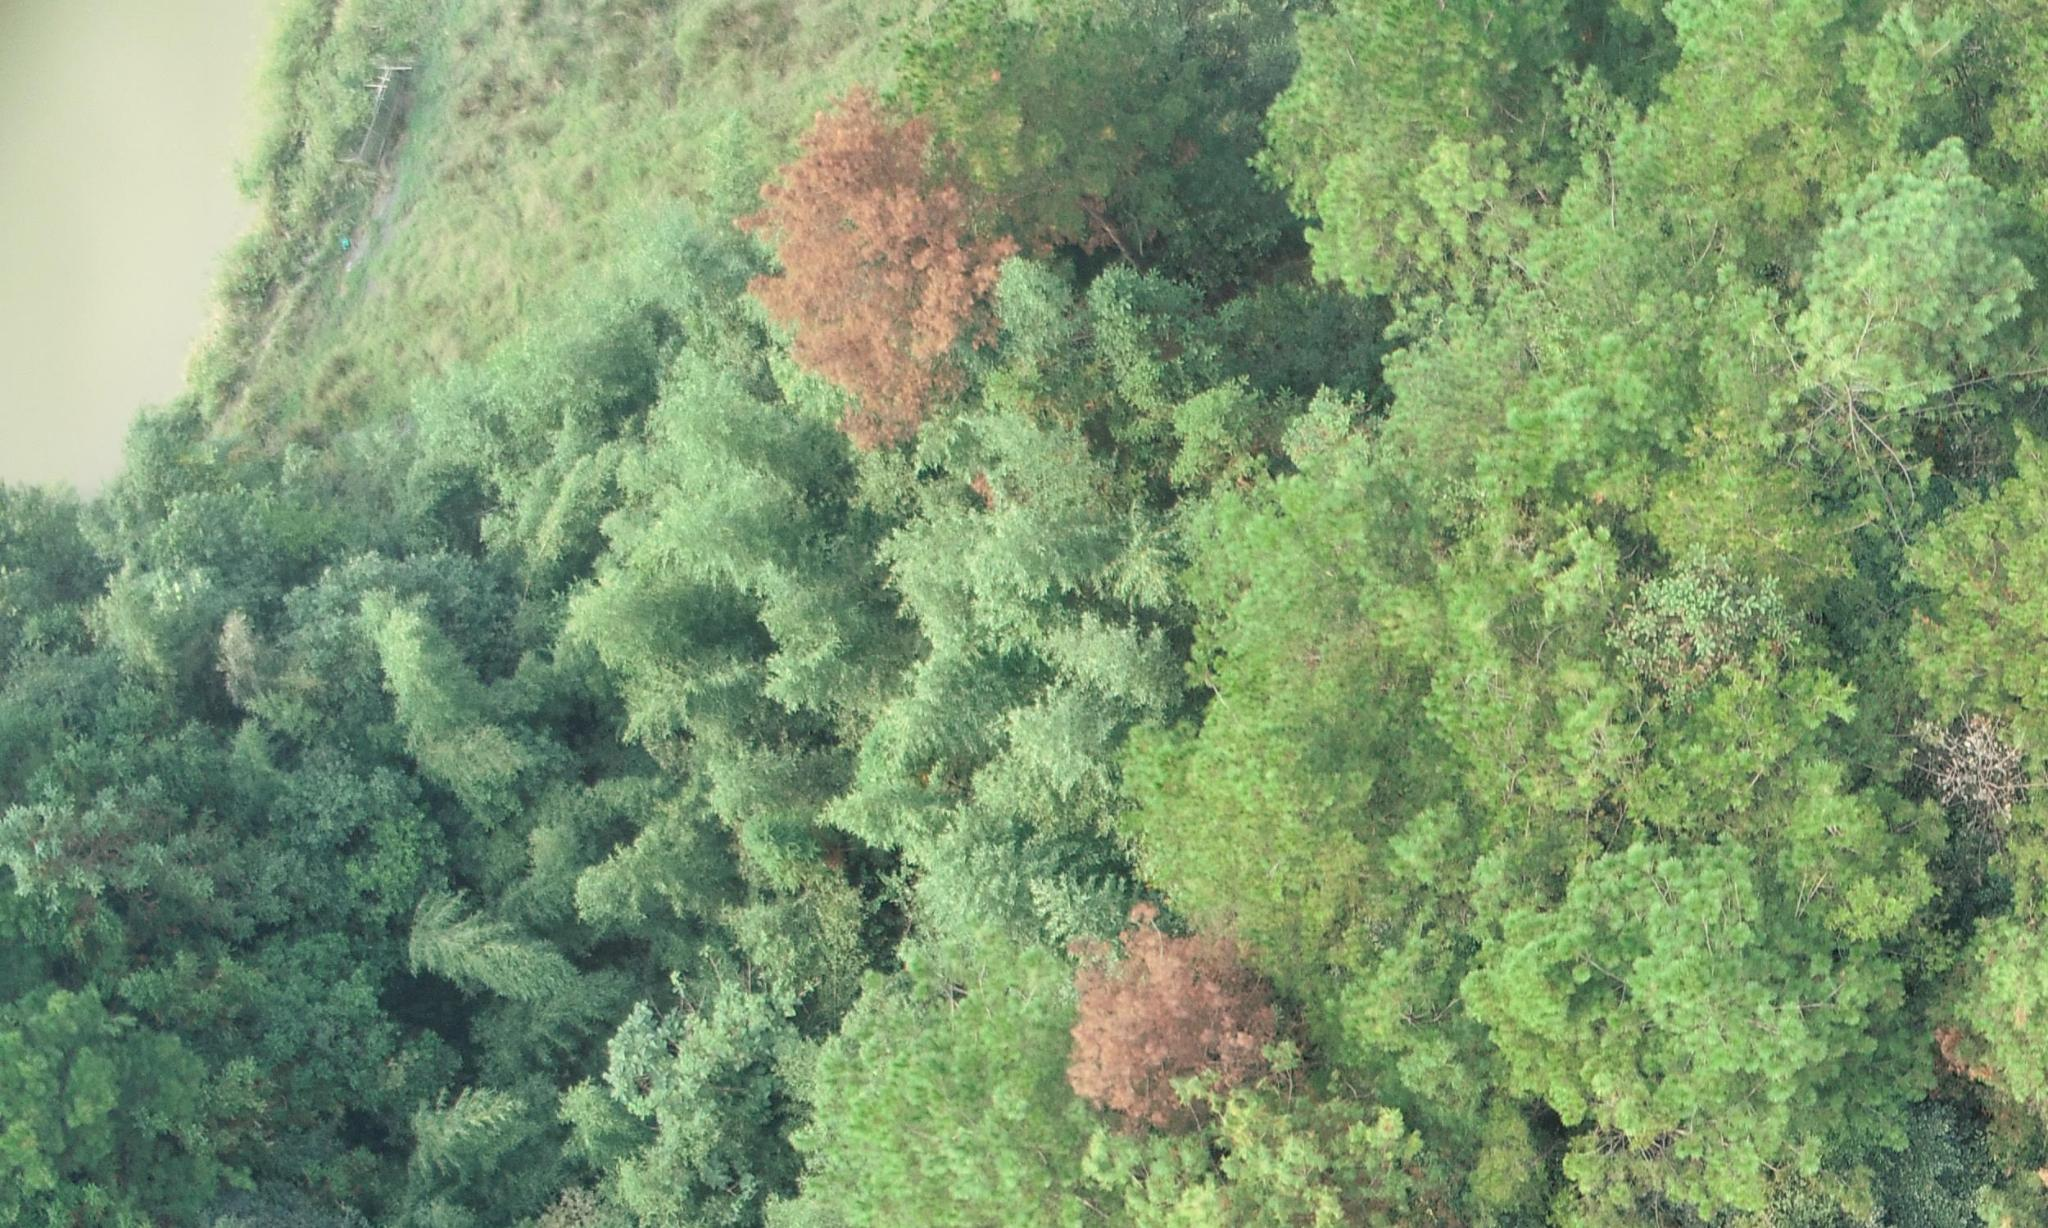heavy: (741, 79, 1009, 462), (1048, 895, 1286, 1132)
